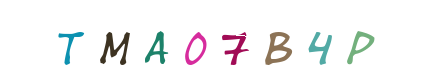0: (174, 0, 254, 80)
4: (214, 0, 294, 80)
7: (192, 0, 272, 80)
A: (161, 0, 241, 80)
B: (195, 0, 275, 80)
M: (80, 0, 160, 80)
P: (270, 0, 350, 80)
T: (75, 0, 155, 80)
